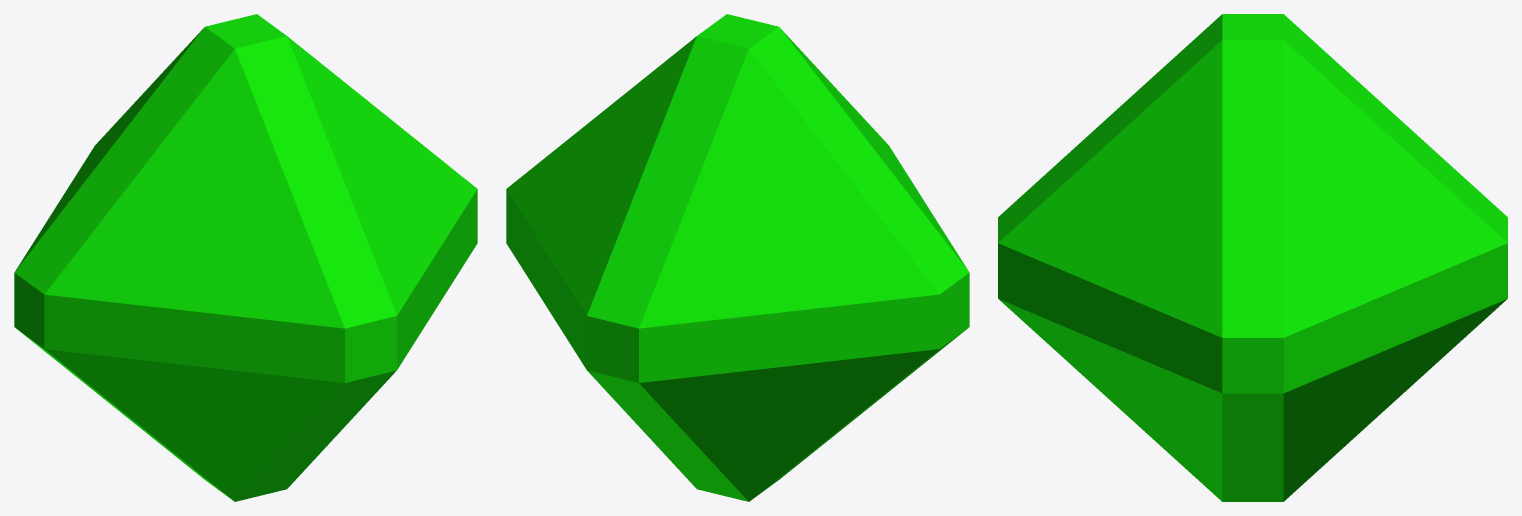
File: ParticleMeshDiamond.fbx
The picture shows the model from 3 angles, left to right: view 1: azimuth 30°, elevation 25°; view 2: azimuth 150°, elevation 25°; view 3: azimuth 270°, elevation 25°; orthographic projection.
Visible parts, largest first — view 1: Cube; view 2: Cube; view 3: Cube.
Boxes of the visible parts, x1,y1,x2,y2 form: Cube: [14, 14, 477, 501]; Cube: [506, 14, 969, 501]; Cube: [998, 14, 1507, 501].
Bounding box in the file's own units: 200 × 200 × 200.
